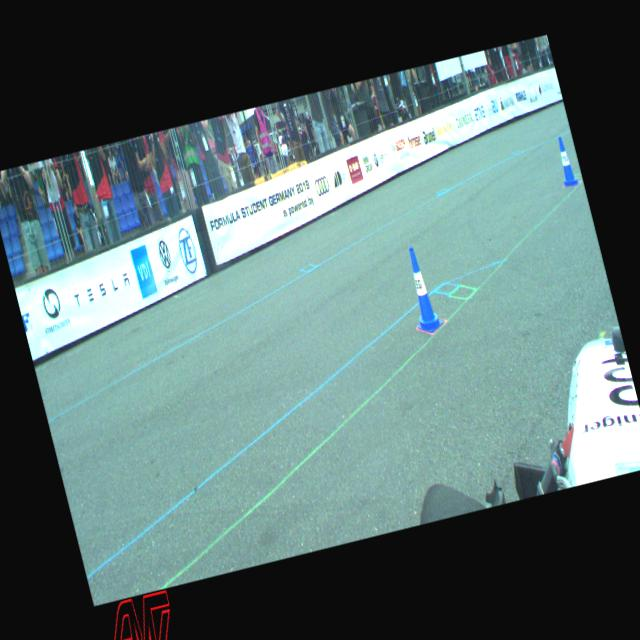blue_cone: (400, 246, 441, 332), (552, 136, 578, 187)
